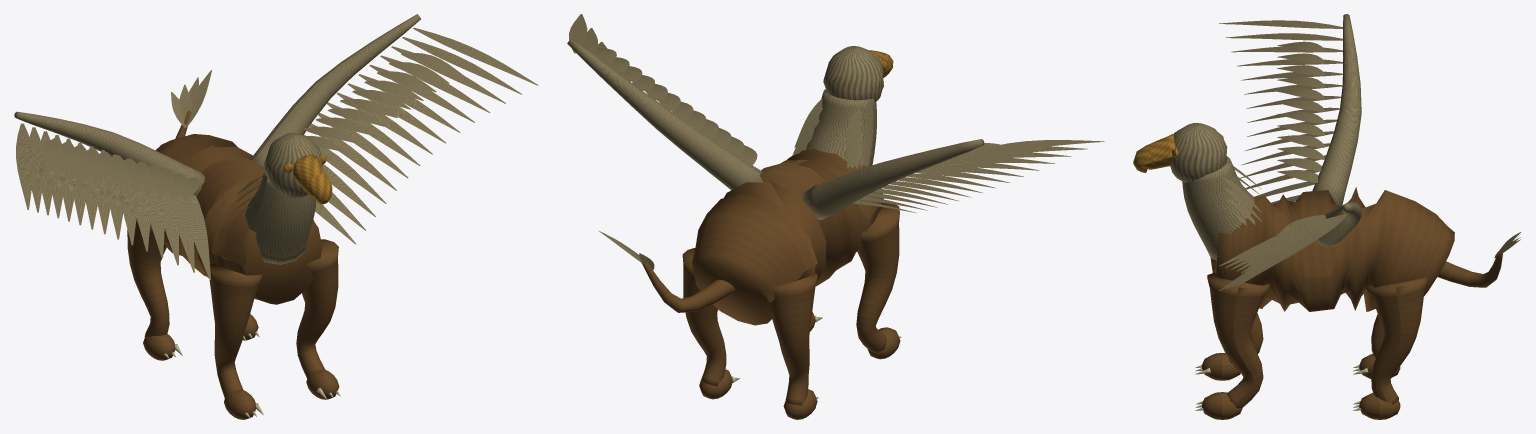
File: special-griffon.glb
3 renders of one model, left to right at view 1: azimuth 30°, elevation 25°; view 2: azimuth 150°, elevation 25°; view 3: azimuth 270°, elevation 25°, orthographic. The views are drawn at different scales.
Visible parts, largest first — view 1: feather, fur, gold; view 2: fur, feather; view 3: fur, feather, gold.
Part boxes in pixels (left/top/right/bottom): feather: left=14, top=14, right=538, bottom=279; fur: left=127, top=110, right=339, bottom=419; gold: left=284, top=154, right=332, bottom=204; fur: left=640, top=148, right=900, bottom=419; feather: left=567, top=14, right=1104, bottom=269; fur: left=1202, top=187, right=1502, bottom=419; feather: left=1170, top=14, right=1520, bottom=290; gold: left=1133, top=132, right=1178, bottom=172.
Size of the model in its own units: 2.67 by 1.48 by 1.8.
5 materials, 5 textured.
